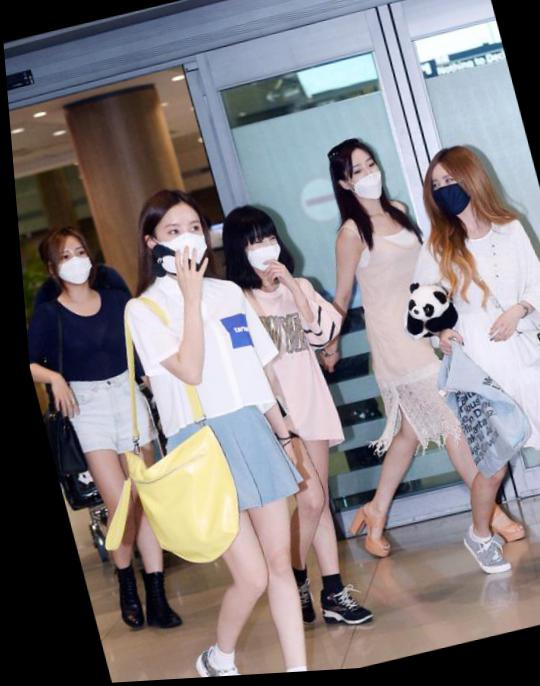OK: (148, 211, 220, 282), (420, 171, 477, 227), (231, 226, 285, 279), (43, 242, 92, 290)
WRONG: (332, 156, 389, 212)
